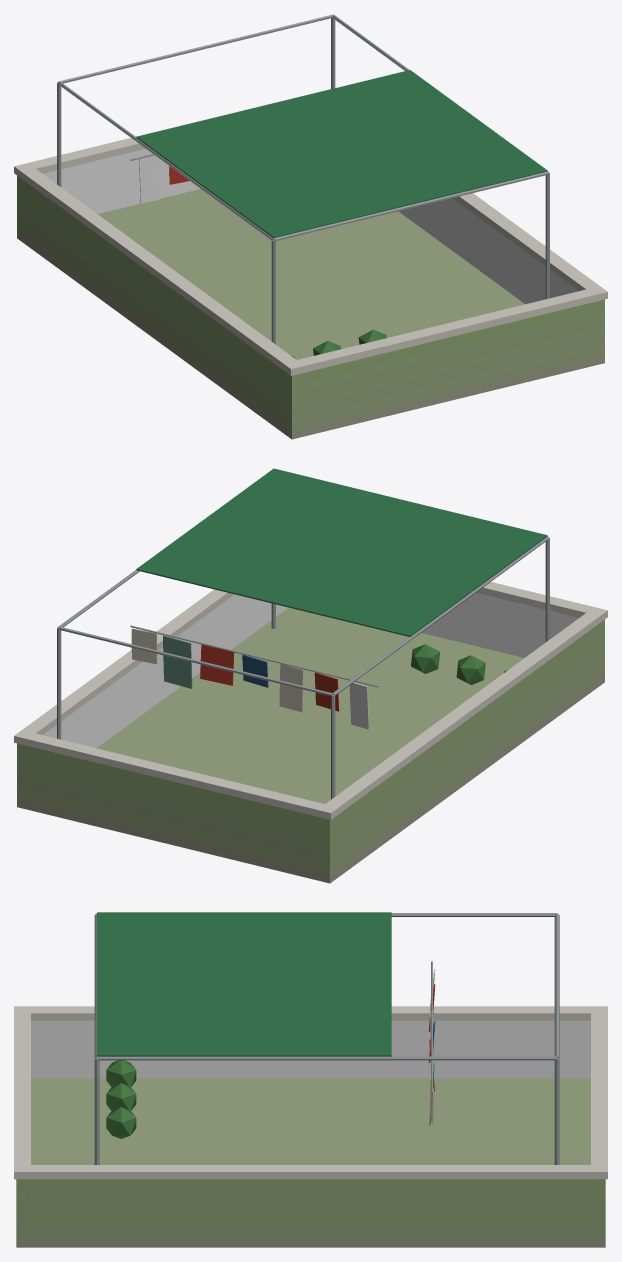
The model's file is mai_luoi_48.glb.
3 renders of one model, top to bottom at view 1: azimuth 30°, elevation 25°; view 2: azimuth 150°, elevation 25°; view 3: azimuth 270°, elevation 25°, orthographic. The views are drawn at different scales.
Parts seen in each view (by area): view 1: mai_luoi_48; view 2: mai_luoi_48; view 3: mai_luoi_48.
Boxes of the visible parts, x1,y1,x2,y2 form: mai_luoi_48: [14, 14, 607, 439]; mai_luoi_48: [14, 468, 607, 883]; mai_luoi_48: [14, 912, 607, 1247].
Size of the model in its own units: 4.86 by 2.49 by 7.36.
